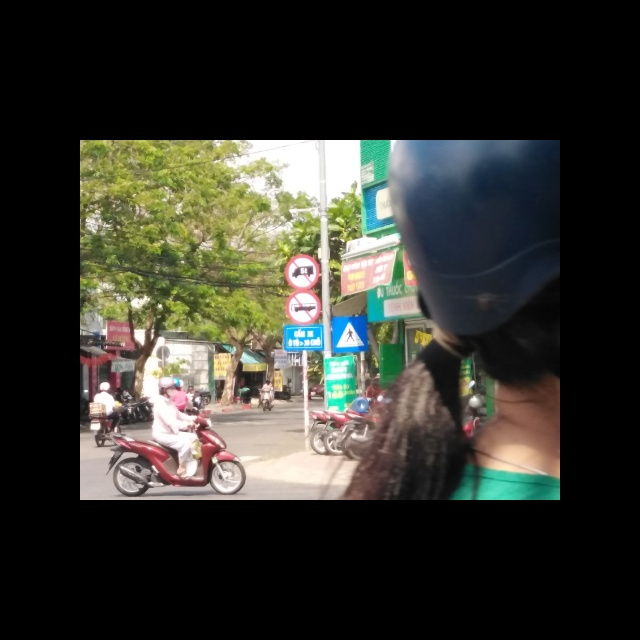Cấm xe tải: (284, 254, 321, 290)
Cấm xe xe khách: (285, 291, 322, 327)
Đường dành cho người đi bộ: (333, 317, 369, 354)
